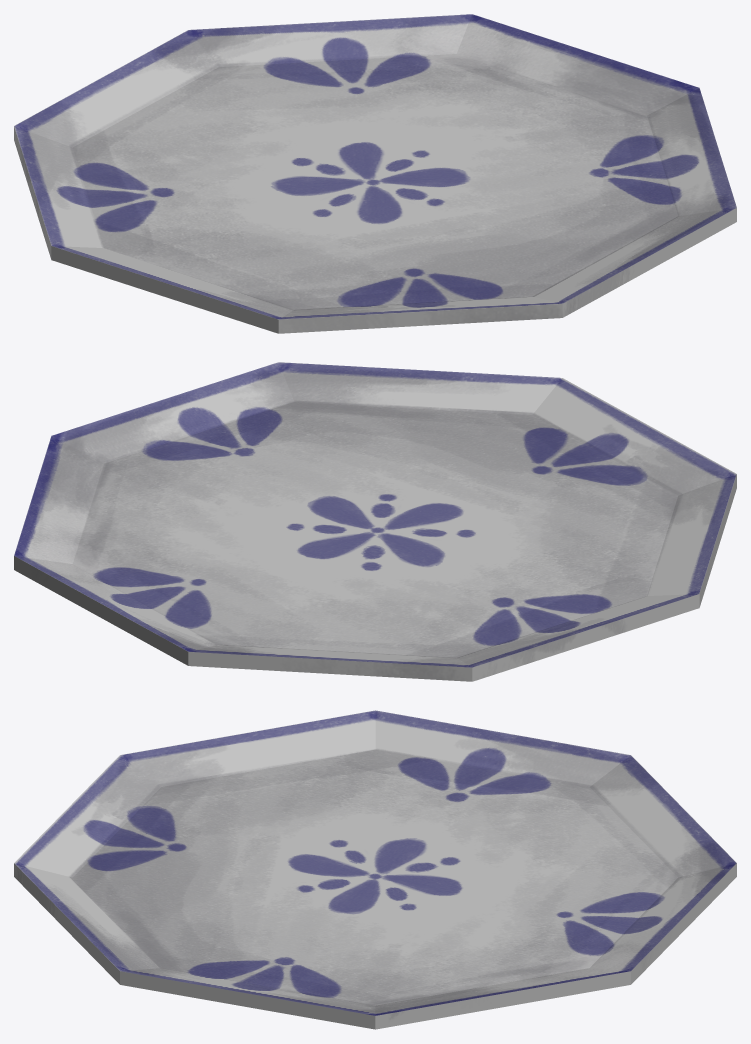
The model's file is plato_.fbx.
3 views of the same model, one above another, from view 1: azimuth 30°, elevation 25°; view 2: azimuth 150°, elevation 25°; view 3: azimuth 270°, elevation 25° (orthographic). The views are drawn at different scales.
Visible parts, largest first — view 1: Plato_term; view 2: Plato_term; view 3: Plato_term.
Part boxes in pixels (x1,y1,x2,y2): Plato_term: [14, 14, 736, 333]; Plato_term: [14, 362, 736, 681]; Plato_term: [14, 710, 736, 1029].
Bounding box in the file's own units: 24 × 1.5 × 24.
Materials: 1 (1 with a texture image).
